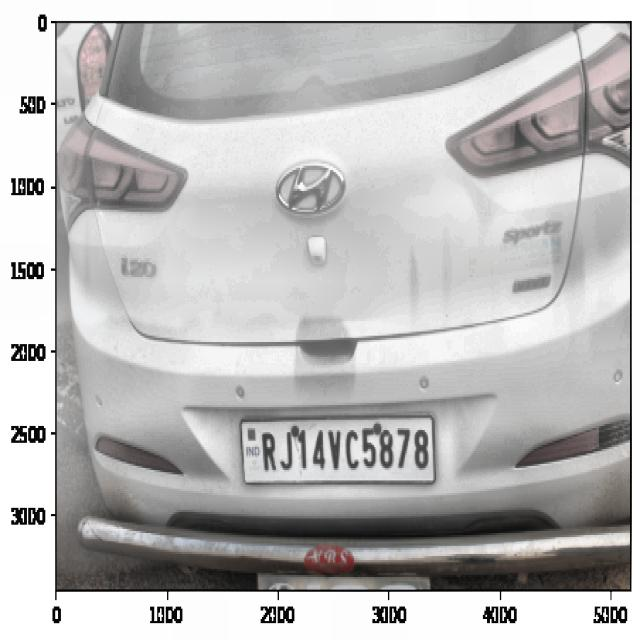license_plate: (256, 419, 434, 482)
